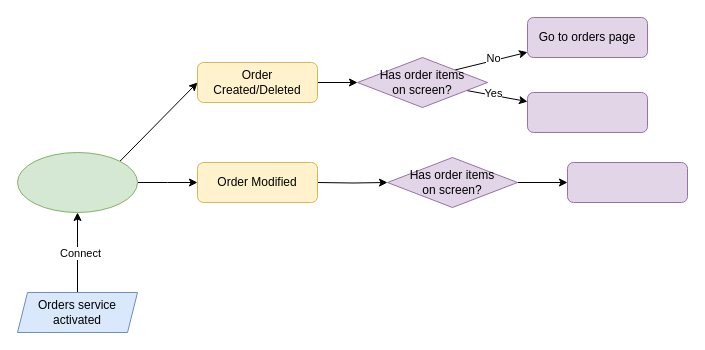
This 705x350 diagram has some shape labels left out. Here are the shapes that lost their labels. From the top down, the box of each, then its label:
(526, 92, 648, 132): Update Orders
(16, 152, 138, 212): Orders Websocket Server
(566, 162, 688, 202): Update Items
